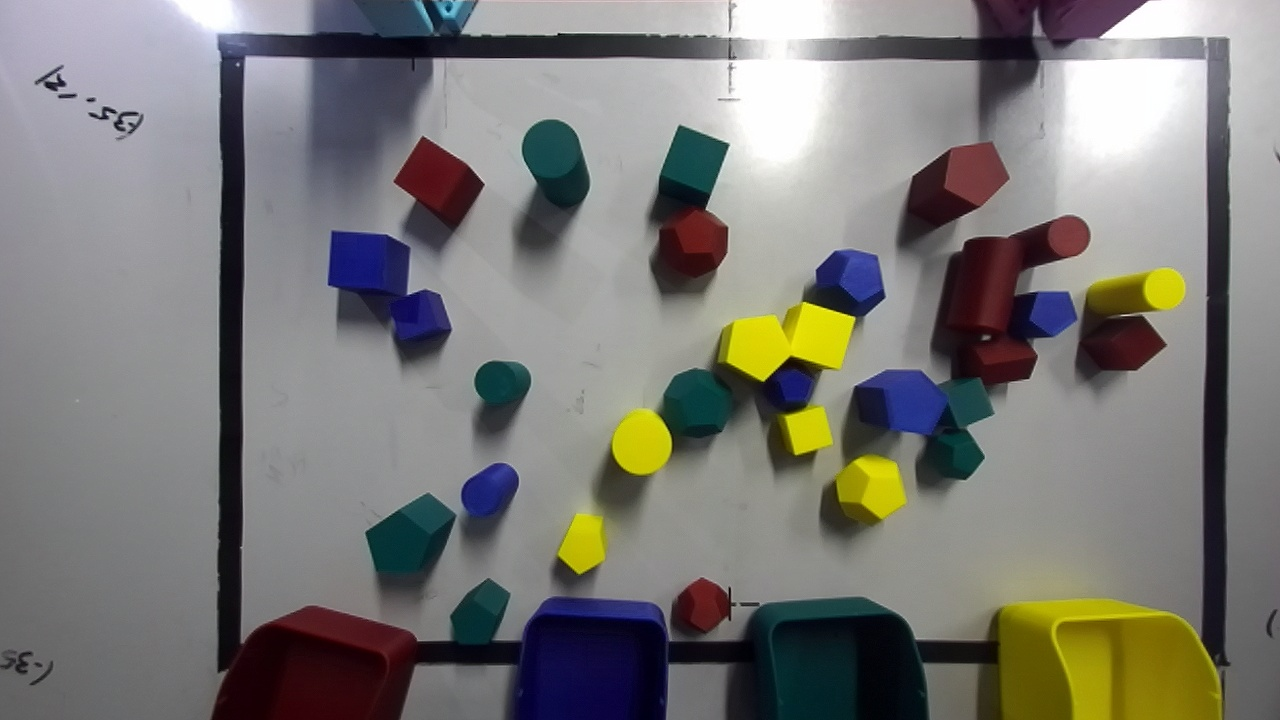bin: (999, 600, 1221, 719), (212, 606, 416, 719), (752, 598, 927, 719), (514, 597, 667, 719)
cube: (394, 136, 483, 229), (659, 125, 728, 207), (327, 230, 409, 296), (782, 302, 854, 369), (1080, 316, 1165, 369), (389, 290, 451, 341), (938, 377, 994, 428), (776, 406, 832, 455)
cylinder: (942, 236, 1025, 336), (522, 119, 588, 207), (1086, 268, 1184, 316), (611, 409, 671, 475), (1019, 215, 1090, 267), (461, 463, 518, 516), (474, 360, 531, 405)
dodecahedron: (803, 249, 884, 315), (835, 454, 905, 523), (661, 369, 732, 437), (659, 207, 727, 276), (672, 577, 730, 631), (926, 430, 984, 479), (761, 364, 815, 411)
hexagonal: (907, 142, 1009, 225), (365, 492, 455, 572), (852, 370, 947, 434), (717, 315, 790, 381), (952, 335, 1037, 385), (450, 578, 509, 644), (1009, 291, 1076, 339), (557, 513, 605, 573)
